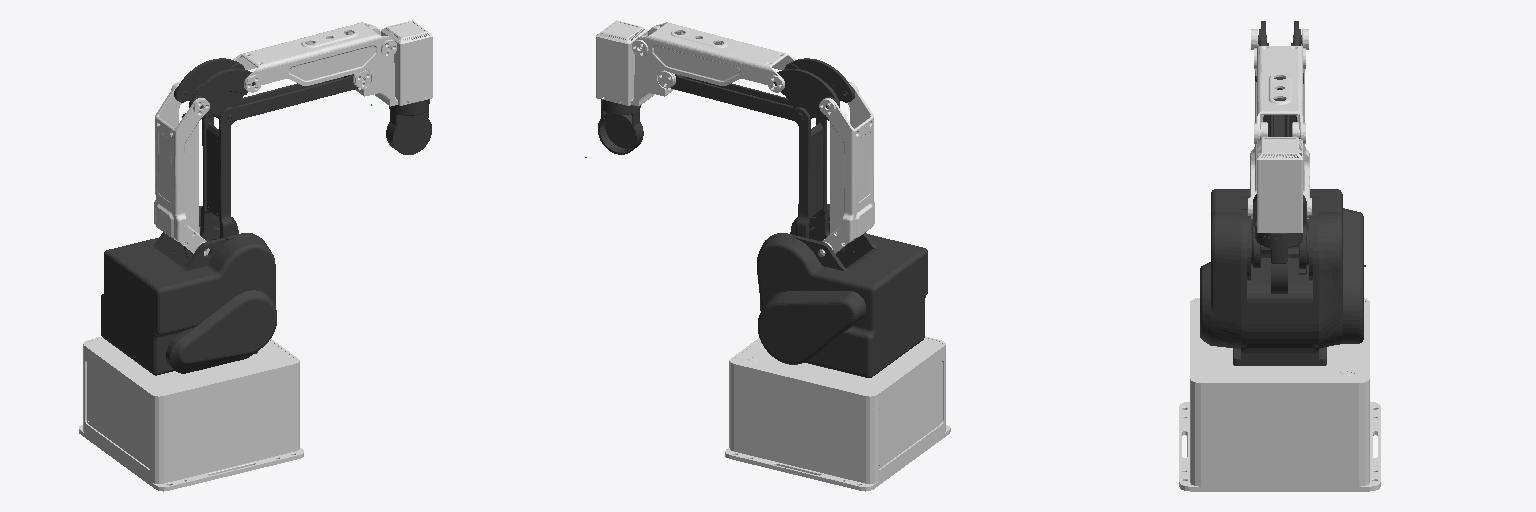
robot.urdf — mg400:
<?xml version="1.0" encoding="utf-8"?>
<!-- This URDF was automatically created by SolidWorks to URDF Exporter! Originally created by Stephen Brawner ([email redacted]) 
     Commit Version: 1.6.0-1-g15f4949  Build Version: 1.6.7594.29634
     For more information, please see http://wiki.ros.org/sw_urdf_exporter -->
<robot name="mg400">
  <material name="TransparentRed">
    <color rgba="0.9 0 0.2 0.5"/>
  </material>
  <!-- Colors -->
  <material name="DarkGrey">
    <color rgba="0.3 0.3 0.3 1.0"/>
  </material>
  <material name="Grey">
    <color rgba="0.4 0.4 0.4 1.0"/>
  </material>
  <material name="Orange">
    <color rgba="1.0 0.423529411765 0.0392156862745 1.0"/>
  </material>
  <material name="Blue">
    <color rgba="0 0.1 1.0 1.0"/>
  </material>
  <material name="LightGrey">
    <color rgba="0.9 0.9 0.9 1.0"/>
  </material>
  <material name="Red">
    <color rgba="0.9 0 0.2 1.0"/>
  </material>
  <material name="TransparentRed">
    <color rgba="0.9 0 0.2 0.5"/>
  </material>
  <material name="Green">
    <color rgba="0 0.9 0.5 1.0"/>
  </material>
  <material name="Yellow">
    <color rgba="0.7 0.7 0 1.0"/>
  </material>
  <material name="LightBlue">
    <color rgba="0. 0.3 1.0 1.0"/>
  </material>
  <material name="Black">
    <color rgba="0.05 0.05 0.05 1.0"/>
  </material>
  <material name="White">
    <color rgba="1.0 1.0 1.0 1.0" />
  </material>

  
    <link name="base_link">
        <inertial>
            <origin xyz="0.000600637001378879 -2.53487071137343E-07 0.0560927888040551" rpy="0 0 0"/>
            <mass value="3.62164811695094"/>
            <inertia
                    ixx="0.0126582175296405"
                    ixy="6.66832041405407E-08"
                    ixz="-3.52548281362717E-06"
                    iyy="0.0145891535260188"
                    iyz="5.15901657460475E-08"
                    izz="0.0195045116656827"/>
        </inertial>
        <visual>
            <origin xyz="0 0 0" rpy="0 0 0"/>
            <geometry>
                <mesh filename="package://mg400/meshes/base_link.STL"/>
            </geometry>
            <material name="LightGrey"/>

        </visual>
        <collision>
            <origin xyz="0 0 0" rpy="0 0 0"/>
            <geometry>
                <mesh filename="package://mg400/meshes/base_link.STL"/>
            </geometry>
        </collision>
    </link>

    <link name="link1">
        <inertial>
            <origin xyz="-0.0046209286967387 -6.88107982318643E-05 0.0709919358465827" rpy="0 0 0"/>
            <mass value="1.77056222753813"/>
            <inertia
                    ixx="0.00605885293080088"
                    ixy="0.000156081820035162"
                    ixz="-0.00021785654850453"
                    iyy="0.00579381982249127"
                    iyz="6.20876898015621E-05"
                    izz="0.00741058257251941"/>
        </inertial>
        <visual>
            <origin xyz="0 0 0" rpy="0 0 0"/>
            <geometry>
                <mesh filename="package://mg400/meshes/link1.STL"/>
            </geometry>
            <material name="DarkGrey"/>
        </visual>
        <collision>
            <origin xyz="0 0 0" rpy="0 0 0"/>
            <geometry>
                <mesh filename="package://mg400/meshes/link1.STL"/>
            </geometry>
        </collision>
    </link>

    <joint name="j1" type="revolute">
        <origin xyz="-0.00500000000000002 0 0.109" rpy="0 0 0"/>
        <parent link="base_link"/>
        <child link="link1"/>
        <axis xyz="0 0 1"/>
        <limit lower="-3.14" upper="3.14" effort="0" velocity="0"/>
    </joint>

    <link name="link2_1">
        <inertial>
            <origin xyz="-0.00321788524756698 0.0352926570826593 0.0596131328734945" rpy="0 0 0"/>
            <mass value="0.0866115884541459"/>
            <inertia
                    ixx="0.000338551627157209"
                    ixy="-2.78858228577314E-09"
                    ixz="1.05212346076681E-05"
                    iyy="0.000307789653713489"
                    iyz="-1.36109590152488E-06"
                    izz="3.89949940178023E-05"/>
        </inertial>
        <visual>
            <origin xyz="0 0 0" rpy="0 0 0"/>
            <geometry>
                <mesh filename="package://mg400/meshes/link2_1.STL"/>
            </geometry>
            <material name="DarkGrey"/>
        </visual>
        <collision>
            <origin xyz="0 0 0" rpy="0 0 0"/>
            <geometry>
                <mesh filename="package://mg400/meshes/link2_1.STL"/>
            </geometry>
        </collision>
    </link>

    <joint name="j2_1" type="revolute">
        <origin xyz="0.0435007595118091 -0.0357748756218899 0.118995682641123" rpy="0 0 0"/>
        <parent link="link1"/>
        <child link="link2_1"/>
        <axis xyz="0 1 0"/>
        <limit lower="-3.14" upper="3.14" effort="0" velocity="0"/>
    </joint>

    <link name="link3_1">
        <inertial>
            <origin xyz="0.0821679417596488 0.000113044685842874 -0.00333758753063973" rpy="0 0 0"/>
            <mass value="0.0375214831045061"/>
            <inertia
                    ixx="2.54761091812684E-06"
                    ixy="3.73102654491378E-07"
                    ixz="-2.02625705871199E-06"
                    iyy="0.000164234314177935"
                    iyz="-1.44731096825347E-08"
                    izz="0.000164331500854172"/>
        </inertial>
        <visual>
            <origin xyz="0 0 0" rpy="0 0 0"/>
            <geometry>
                <mesh filename="package://mg400/meshes/link3_1.STL"/>
            </geometry>
            <material name="DarkGrey"/>
        </visual>
        <collision>
            <origin xyz="0 0 0" rpy="0 0 0"/>
            <geometry>
                <mesh filename="package://mg400/meshes/link3_1.STL"/>
            </geometry>
        </collision>
    </link>

    <joint name="j3_1" type="revolute">
        <origin xyz="-0.0010512570171516 0.0357748756218898 0.175001164344716" rpy="0 0 0"/>
        <parent link="link2_1"/>
        <child link="link3_1"/>
        <axis xyz="0 1 0"/>
        <limit lower="-3.14" upper="3.14" effort="0" velocity="0"/>
    </joint>

    <link name="link4_1">
        <inertial>
            <origin xyz="0.0387878182928232 0.0170848333998282 -0.0024610990490942" rpy="0 0 0"/>
            <mass value="0.0628979533925801"/>
            <inertia
                    ixx="4.78483605712844E-05"
                    ixy="1.42081909356751E-07"
                    ixz="8.32917079044309E-06"
                    iyy="5.42362047732042E-05"
                    iyz="-2.90608446019989E-08"
                    izz="3.36120409842199E-05"/>
        </inertial>
        <visual>
            <origin xyz="0 0 0" rpy="0 0 0"/>
            <geometry>
                <mesh filename="package://mg400/meshes/link4_1.STL"/>
            </geometry>
            <material name="LightGrey"/>
        </visual>
        <collision>
            <origin xyz="0 0 0" rpy="0 0 0"/>
            <geometry>
                <mesh filename="package://mg400/meshes/link4_1.STL"/>
            </geometry>
        </collision>
    </link>

    <joint name="j4_1" type="revolute">
        <origin xyz="0.174969784055705 -0.0170000000000335 0.00325187137614585" rpy="0 0 0"/>
        <parent link="link3_1"/>
        <child link="link4_1"/>
        <axis xyz="0 1 0"/>
        <limit lower="-3.14" upper="3.14" effort="0" velocity="0"/>
    </joint>

    <link name="link5">
        <inertial>
            <origin xyz="4.24246458685662E-07 3.08507851181768E-14 -0.0349688816440933" rpy="0 0 0"/>
            <mass value="0.0965276919819365"/>
            <inertia
                    ixx="4.98589992160928E-05"
                    ixy="-1.534865545378E-12"
                    ixz="3.46424449605658E-10"
                    iyy="4.98589881725446E-05"
                    iyz="-5.64890953414983E-17"
                    izz="2.130463008359E-05"/>
        </inertial>
        <visual>
            <origin xyz="0 0 0" rpy="0 0 0"/>
            <geometry>
                <mesh filename="package://mg400/meshes/link5.STL"/>
            </geometry>
            <material name="LightGrey"/>
        </visual>
        <collision>
            <origin xyz="0 0 0" rpy="0 0 0"/>
            <geometry>
                <mesh filename="package://mg400/meshes/link5.STL"/>
            </geometry>
        </collision>
    </link>

    <joint name="j5" type="revolute">
        <origin xyz="0.0659996239003897 0.0170000000000371 0.031000800715573" rpy="0 0 0"/>
        <parent link="link4_1"/>
        <child link="link5"/>
        <axis xyz="-1.19408295462994E-05 0 0.999999999928708"/>
        <limit lower="-3.14" upper="3.14" effort="0" velocity="0"/>
    </joint>

    <link name="link2_2">
        <inertial>
            <origin xyz="-0.0201111131723385 0.0304999635268521 0.073632809340276" rpy="0 0 0"/>
            <mass value="0.0662546292985346"/>
            <inertia
                    ixx="0.000218973873589181"
                    ixy="3.0147933007673E-10"
                    ixz="2.51402553227571E-06"
                    iyy="0.000200510070261609"
                    iyz="-1.41837669904595E-09"
                    izz="3.74316777806776E-05"/>
        </inertial>
        <visual>
            <origin xyz="0 0 0" rpy="0 0 0"/>
            <geometry>
                <mesh filename="package://mg400/meshes/link2_2.STL"/>
            </geometry>
            <material name="LightGrey"/>
        </visual>
        <collision>
            <origin xyz="0 0 0" rpy="0 0 0"/>
            <geometry>
                <mesh filename="package://mg400/meshes/link2_2.STL"/>
            </geometry>
        </collision>
    </link>

    <joint name="j2_2" type="revolute">
        <origin xyz="0.00452885682964267 -0.0305 0.141500000000001" rpy="0 0 0"/>
        <parent link="link1"/>
        <child link="link2_2"/>
        <axis xyz="0 1 0"/>
        <limit lower="-3.14" upper="3.14" effort="0" velocity="0"/>
    </joint>

    <link name="link3_2">
        <inertial>
            <origin xyz="0.0338566736074436 0.0240208873857428 0.00452229895926692" rpy="0 0 0"/>
            <mass value="0.0366692789294813"/>
            <inertia
                    ixx="7.24011830695354E-06"
                    ixy="7.93542746250724E-10"
                    ixz="-1.69163254472566E-06"
                    iyy="2.34967008246727E-05"
                    iyz="4.55507111386579E-10"
                    izz="1.66831643179488E-05"/>
        </inertial>
        <visual>
            <origin xyz="0 0 0" rpy="0 0 0"/>
            <geometry>
                <mesh filename="package://mg400/meshes/link3_2.STL"/>
            </geometry>
            <material name="DarkGrey"/>
        </visual>
        <collision>
            <origin xyz="0 0 0" rpy="0 0 0"/>
            <geometry>
                <mesh filename="package://mg400/meshes/link3_2.STL"/>
            </geometry>
        </collision>
    </link>

    <joint name="j3_2" type="revolute">
        <origin xyz="-0.00105049750546494 0.00649999999999986 0.174996846985851" rpy="0 0 0"/>
        <parent link="link2_2"/>
        <child link="link3_2"/>
        <axis xyz="0 1 0"/>
        <limit lower="-3.14" upper="3.14" effort="0" velocity="0"/>
    </joint>

    <link name="link4_2">
        <inertial>
            <origin xyz="0.0876391591012518 0.023499867452275 0.00831492252441945" rpy="0 0 0"/>
            <mass value="0.0453569016333092"/>
            <inertia
                    ixx="2.00037596001325E-05"
                    ixy="3.34474706250153E-09"
                    ixz="2.17594982354756E-07"
                    iyy="0.000132049841023893"
                    iyz="5.36978669669685E-10"
                    izz="0.000141813978894428"/>
        </inertial>
        <visual>
            <origin xyz="0 0 0" rpy="0 0 0"/>
            <geometry>
                <mesh filename="package://mg400/meshes/link4_2.STL"/>
            </geometry>
            <material name="LightGrey"/>
        </visual>
        <collision>
            <origin xyz="0 0 0" rpy="0 0 0"/>
            <geometry>
                <mesh filename="package://mg400/meshes/link4_2.STL"/>
            </geometry>
        </collision>
    </link>

    <joint name="j4_2" type="revolute">
        <origin xyz="0.0678965856063864 0.000500000000000073 0.0119719999403219" rpy="0 0 0"/>
        <parent link="link3_2"/>
        <child link="link4_2"/>
        <axis xyz="0 1 0"/>
        <limit lower="-3.14" upper="3.14" effort="0" velocity="0"/>
    </joint>

  <!--dummy joint-->
  <joint name="ee_joint" type="fixed">
    <parent link="link5"/>
    <child link="ee_link"/>
    <origin xyz="0 0 -0.065" rpy="0 0 0"/>
  </joint>

  <link name="ee_link">
    <visual>
      <origin rpy="0 0 0" xyz="0 0 0"/>
      <geometry>
        <sphere radius="0.005"/>
      </geometry>
        <material name="Red"/>
    </visual>
    <collision>
      <geometry>
        <sphere radius="0.001"/>
      </geometry>
      <origin rpy="0 0 0" xyz="0.0 0 0"/>
    </collision>
    <inertial>
      <mass value="0.0"/>
      <origin rpy="-3.14 0.0 1.57" xyz="0.0 0.0 0.0"/>
      <inertia ixx="0.001" ixy="0.0" ixz="0.0" iyy="0.001" iyz="0.0" izz="0.001"/>
    </inertial>
  </link>

        <!-- TacTip -->

      <link name="tactip_adapter_link">
        <inertial>
          <origin rpy="0 0 0" xyz="0 0 0"/>
           <mass value="0.1"/>
           <inertia ixx="0.001" ixy="0" ixz="0" iyy="0.001" iyz="0" izz="0.001"/>
        </inertial>
        <visual>
          <origin rpy="0 0 0" xyz="0 0 0"/>
          <geometry>
    				<mesh filename="../tactip/right_angle_tactip/adapter/right_angle_adapter.obj" scale="0.7 0.7 0.7"/>
          </geometry>
           <material name="blackish">
            <color rgba="0.3 0.3 0.3 1.0"/>
          </material>
        </visual>
        <collision>
          <origin rpy="0 0 0" xyz="0 0 0"/>
          <geometry>
    				<mesh filename="../tactip/right_angle_tactip/adapter/right_angle_adapter.obj" scale="0.7 0.7 0.7"/>
          </geometry>
        </collision>
      </link>

      <joint name="tactip_ee_joint" type="fixed">
        <parent link="ee_link"/>
        <child link="tactip_adapter_link"/>
        <origin rpy="0 -1.57 -1.57" xyz="0.0 -0.005 -0.052"/>
      </joint>

      <link name="tactip_body_link">
        <inertial>
          <origin rpy="0 0 0" xyz="0 0 0"/>
           <mass value="0.25"/>
           <inertia ixx="0.001" ixy="0" ixz="0" iyy="0.001" iyz="0" izz="0.001"/>
        </inertial>
        <visual>
          <origin rpy="0 0 0" xyz="0 0 0"/>
          <geometry>
    				<mesh filename="../tactip/standard_tactip/body/tactip_body.obj" scale="1.0 1.0 1.0"/>
          </geometry>
           <material name="blackish">
          </material>
        </visual>
        <collision>
          <origin rpy="0 0 0" xyz="0 0 0"/>
          <geometry>
    				<mesh filename="../tactip/standard_tactip/body/tactip_body.obj" scale="1.0 1.0 1.0"/>
          </geometry>
        </collision>
      </link>

      <joint name="tactip_body_to_adapter" type="fixed">
         <origin rpy="0 0 0" xyz="0 0 0"/>
         <parent link="tactip_adapter_link"/>
         <child link="tactip_body_link"/>
      </joint>

      <link name="tactip_tip_link">
        <contact>
          <friction_anchor/>
          <lateral_friction value="1.0"/>
        </contact>
        <inertial>
          <origin rpy="0 0 0" xyz="0 0 0"/>
           <mass value=".1"/>
           <inertia ixx="1" ixy="0" ixz="0" iyy="1" iyz="0" izz="1"/>
        </inertial>
        <visual>
          <origin rpy="0 0 0" xyz="0 0 0"/>
          <geometry>
            <mesh filename="../tactip/standard_tactip/tip/skin.obj" scale="1.0 1.0 1.0"/>
          </geometry>
           <material name="black">
            <color rgba="0.0 0.0 0.0 1.0"/>
          </material>
        </visual>
        <collision>
          <origin rpy="0 0 0" xyz="0 0 0"/>
          <geometry>
            <mesh filename="../tactip/standard_tactip/tip/core.obj" scale="1 1 1"/>
          </geometry>
        </collision>
      </link>

      <joint name="tactip_tip_to_body" type="fixed">
         <origin rpy="1.57 0 0" xyz="0 0 0.065"/>
         <axis xyz="0 1 0"/>
         <parent link="tactip_body_link"/>
         <child link="tactip_tip_link"/>
      </joint>

      <!-- TCP -->
      <link name="tcp_link">
        <visual>
          <origin rpy="0 0 0" xyz="0 0 0"/>
          <geometry>
            <sphere radius="0.001"/>
          </geometry>
           <material name="TransparentRed"/>
        </visual>
        <inertial>
          <mass value="0.0"/>
          <origin rpy="0.0 -1.57 0.0" xyz="0.0 0.0 0.0"/>
          <inertia ixx="1.0" ixy="0.0" ixz="0.0" iyy="1.0" iyz="0.0" izz="1.0"/>
        </inertial>
      </link>

      <joint name="tcp_joint" type="fixed">
        <parent link="tactip_body_link"/>
        <child link="tcp_link"/>
        <origin rpy="0 0 0" xyz="0.0 0.0 0.085"/>
      </joint>
</robot>

--- Facts derived from the render (not from the file) ---
Views: 3 orthographic renders of the robot side by side, from view 1: azimuth 30°, elevation 25°; view 2: azimuth 150°, elevation 25°; view 3: azimuth 270°, elevation 25°.
Model mg400 with 14 links and 13 joints (8 revolute, 5 fixed), rooted at base_link, posed every joint at zero.
Visible links, largest first — view 1: base_link, link1, link2_2, link4_2, link4_1, link2_1, link3_2, link3_1, tactip_adapter_link; view 2: base_link, link1, link2_2, link4_2, link4_1, link2_1, link3_2, link3_1, tactip_adapter_link; view 3: base_link, link1, link4_1, link4_2, tactip_adapter_link, link2_2, link2_1.
Boxes of the visible links, box(x1,y1,x2,y2) form: base_link: box(79, 337, 303, 491); link1: box(101, 206, 276, 375); link2_2: box(154, 82, 209, 255); link4_2: box(233, 22, 396, 92); link4_1: box(353, 20, 432, 106); link2_1: box(200, 107, 236, 241); link3_2: box(174, 58, 254, 118); link3_1: box(182, 74, 357, 120); tactip_adapter_link: box(386, 99, 431, 154); base_link: box(725, 336, 950, 491); link1: box(757, 204, 927, 377); link2_2: box(819, 82, 874, 255); link4_2: box(632, 22, 795, 92); link4_1: box(596, 20, 675, 106); link2_1: box(792, 107, 829, 241); link3_2: box(774, 58, 854, 118); link3_1: box(671, 74, 828, 120); tactip_adapter_link: box(598, 99, 643, 154); base_link: box(1179, 298, 1380, 491); link1: box(1200, 189, 1363, 365); link4_1: box(1257, 122, 1302, 232); link4_2: box(1254, 46, 1305, 143); tactip_adapter_link: box(1255, 221, 1302, 293); link2_2: box(1248, 29, 1311, 218); link2_1: box(1251, 73, 1308, 274).
Size in the robot's own frame: 0.4007 by 0.19 by 0.4597 metres.
10 mesh visuals loaded from 12 distinct referenced files (9 binary STL, 1 OBJ); not drawn: 2 (reference not matched to a file when rendering).
